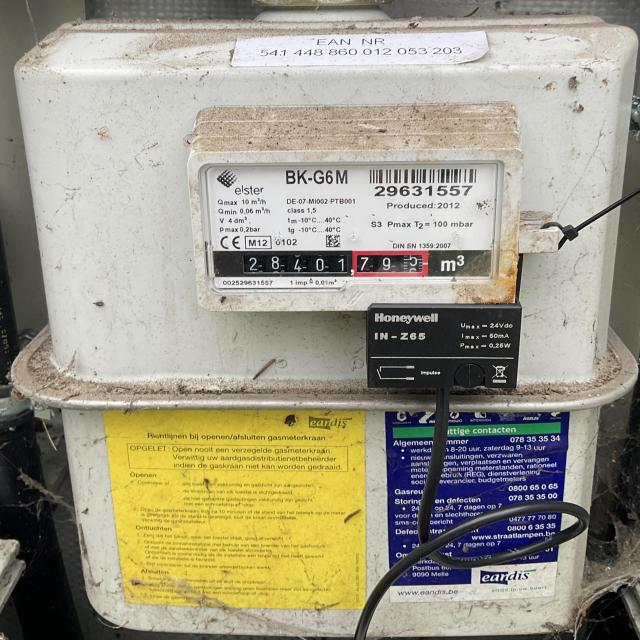gaz_meter: (201, 162, 498, 282)
indication: (241, 250, 431, 277)
